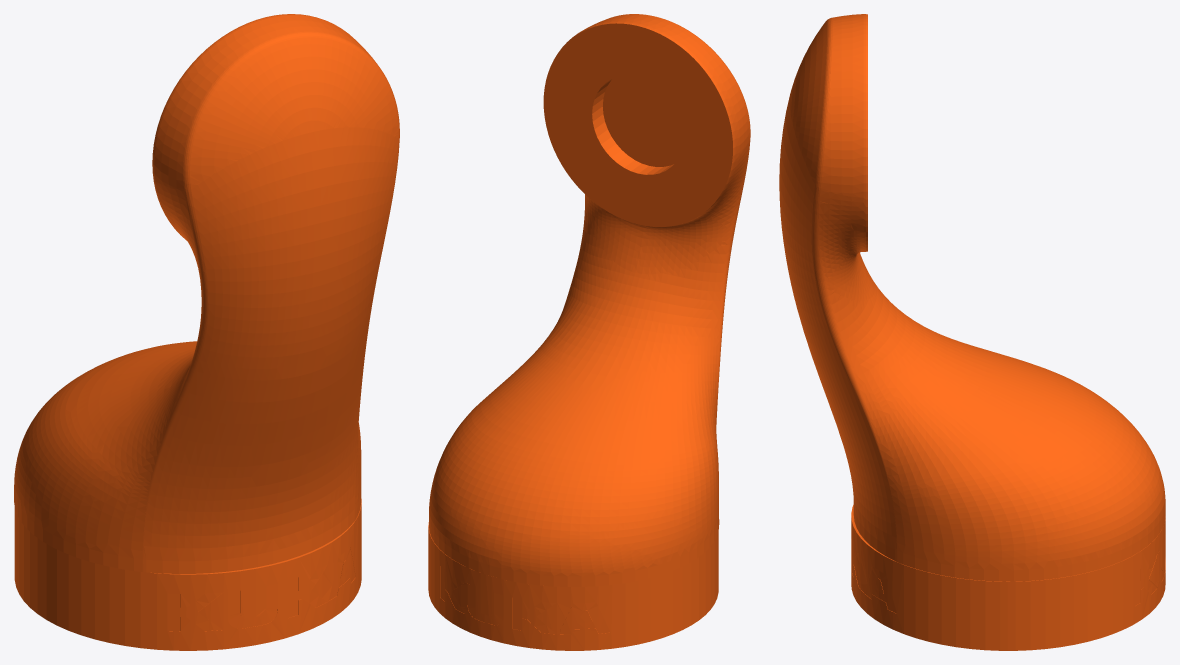
File: iiwa_link_5.dae
3 renders of one model, left to right at view 1: azimuth 30°, elevation 25°; view 2: azimuth 150°, elevation 25°; view 3: azimuth 270°, elevation 25°, orthographic. The views are drawn at different scales.
Visible parts, largest first — view 1: Iiwa Link 5; view 2: Iiwa Link 5; view 3: Iiwa Link 5.
Part boxes in pixels (box(x1,y1,x2,y2)): Iiwa Link 5: box(14, 14, 399, 650); Iiwa Link 5: box(428, 14, 750, 650); Iiwa Link 5: box(779, 14, 1165, 650).
Size of the model in its own units: 0.1362 by 0.1671 by 0.277.
